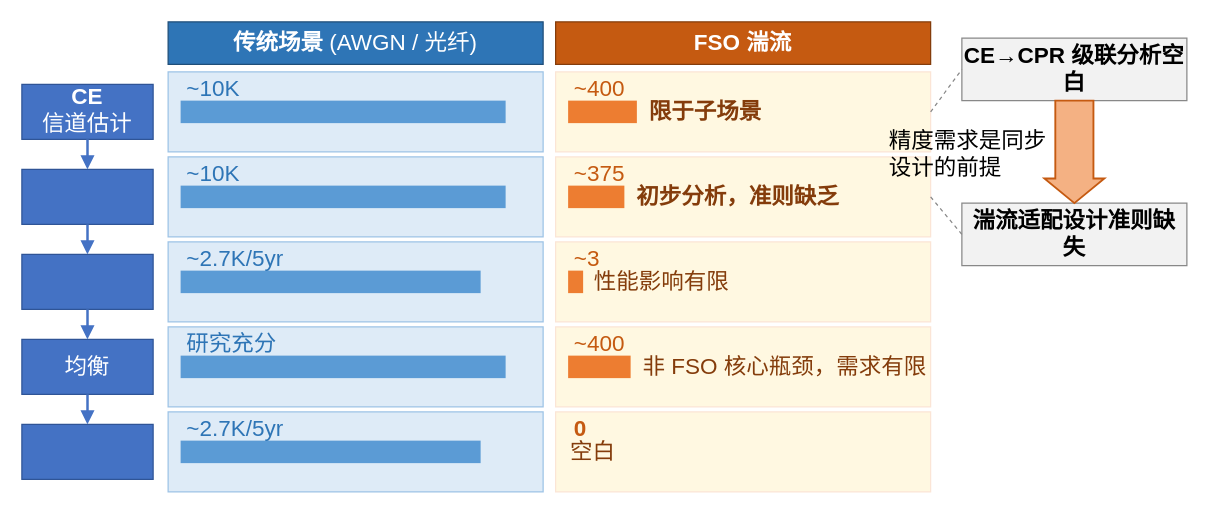
The diagram is 1209 pixels wide and 514 high, and some of its shapes have lost their labels. Each missing label, with the box of its shape:
CPR 载波同步: (21, 168, 153, 224)
定时同步: (21, 253, 153, 309)
编码辅助: (21, 423, 153, 479)
